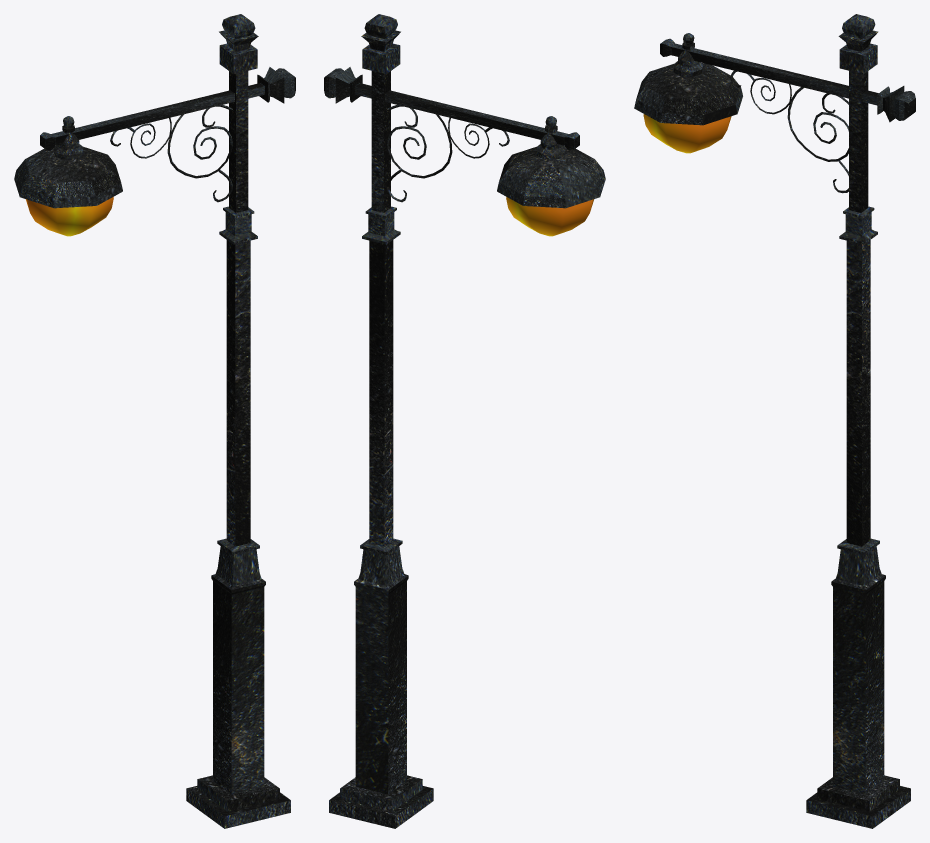
The model's file is textured lamps 1.fbx.
The picture shows the model from 3 angles, left to right: view 1: azimuth 30°, elevation 25°; view 2: azimuth 150°, elevation 25°; view 3: azimuth 330°, elevation 25°; orthographic projection.
Visible parts, largest first — view 1: Circle.001, Circle.008; view 2: Circle.001, Circle.008; view 3: Circle.001, Circle.008.
Boxes of the visible parts, <box> form: Circle.001: <box>14,14,295,828</box>; Circle.008: <box>25,197,113,236</box>; Circle.001: <box>324,14,605,828</box>; Circle.008: <box>506,197,594,236</box>; Circle.001: <box>634,14,915,828</box>; Circle.008: <box>643,114,731,153</box>.
Bounding box in the file's own units: 163 × 451 × 58.28.
2 materials, 2 textured.
